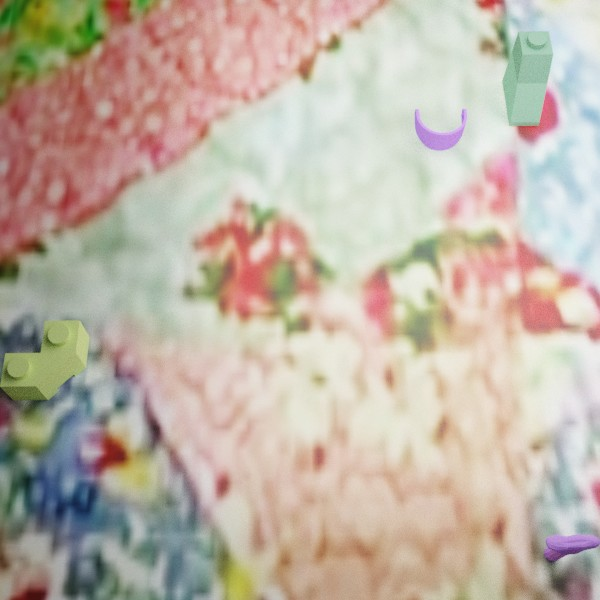lego: (0, 320, 89, 400), (502, 31, 553, 126), (414, 108, 467, 150), (544, 534, 600, 561)
